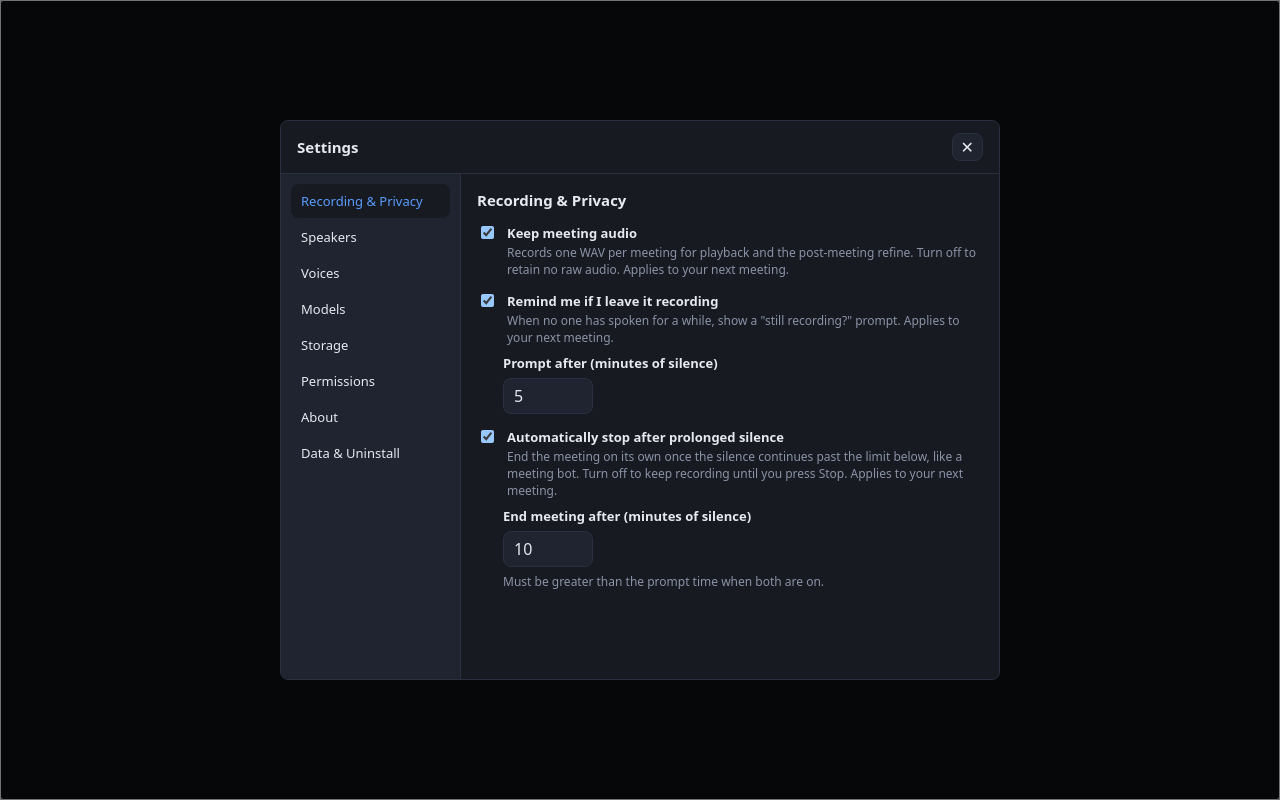
it: SettingsPage voices panel › surfaces a name collision from the rename
Click the button "Voices".
click(370, 273)  # box [291,256,450,290]
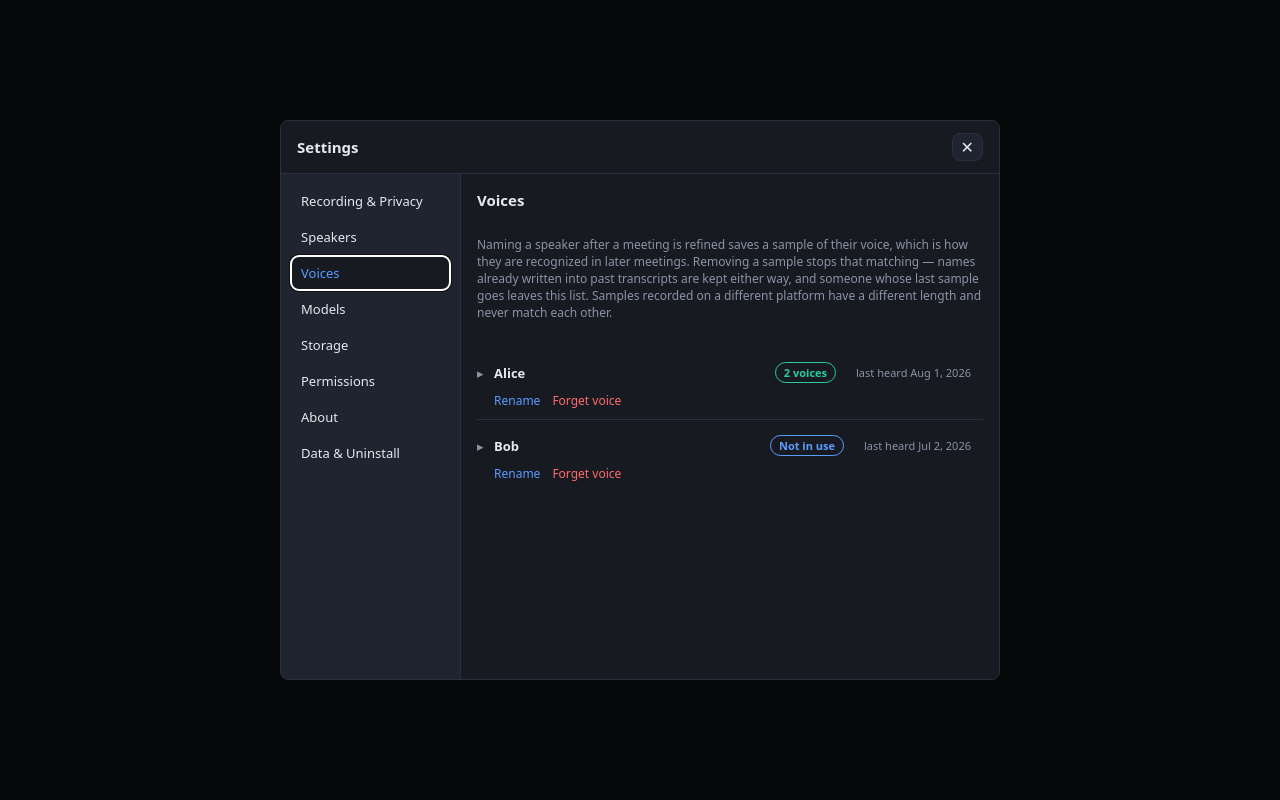
Click the button "Rename" below "2 voices".
click(517, 400)  # box [494,392,540,409]
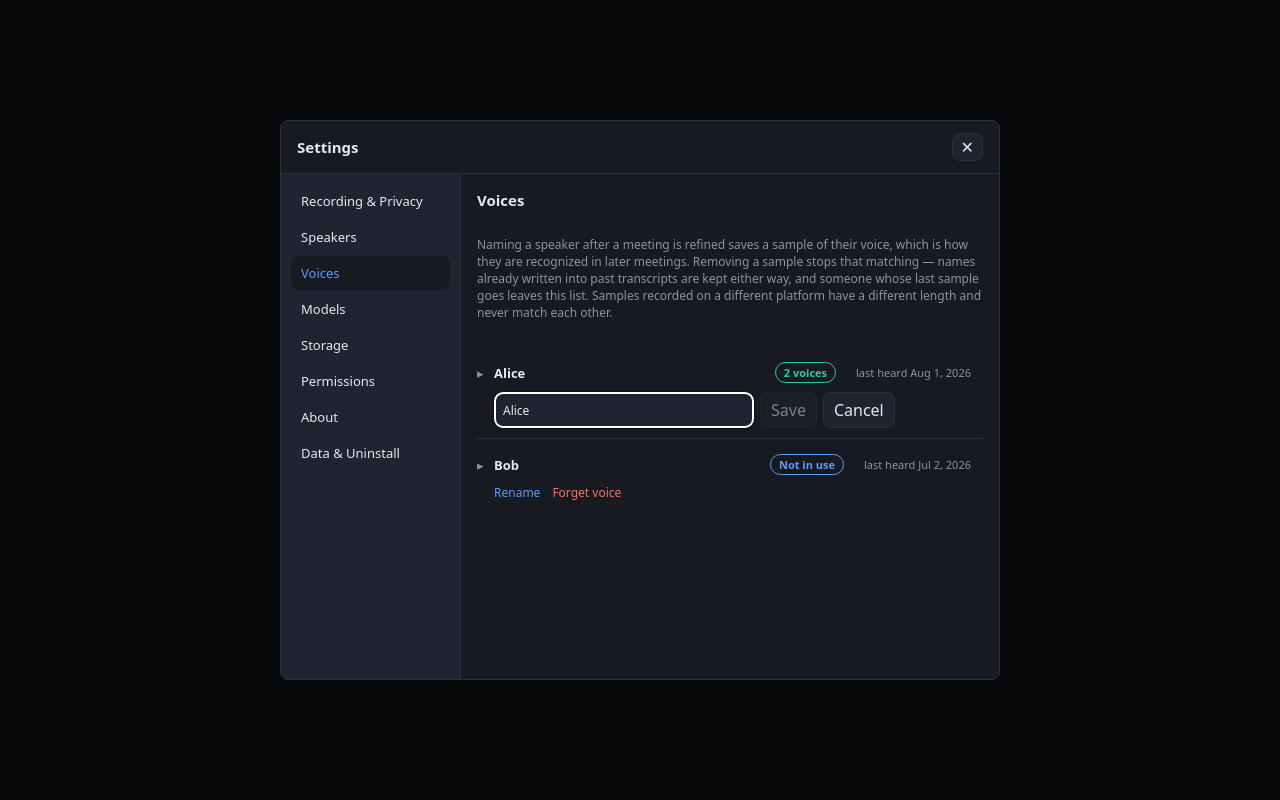
Replace the text in the field named "Rename Alice" with "Bob" at (624, 410), box [494,392,754,428]
Then press Enter
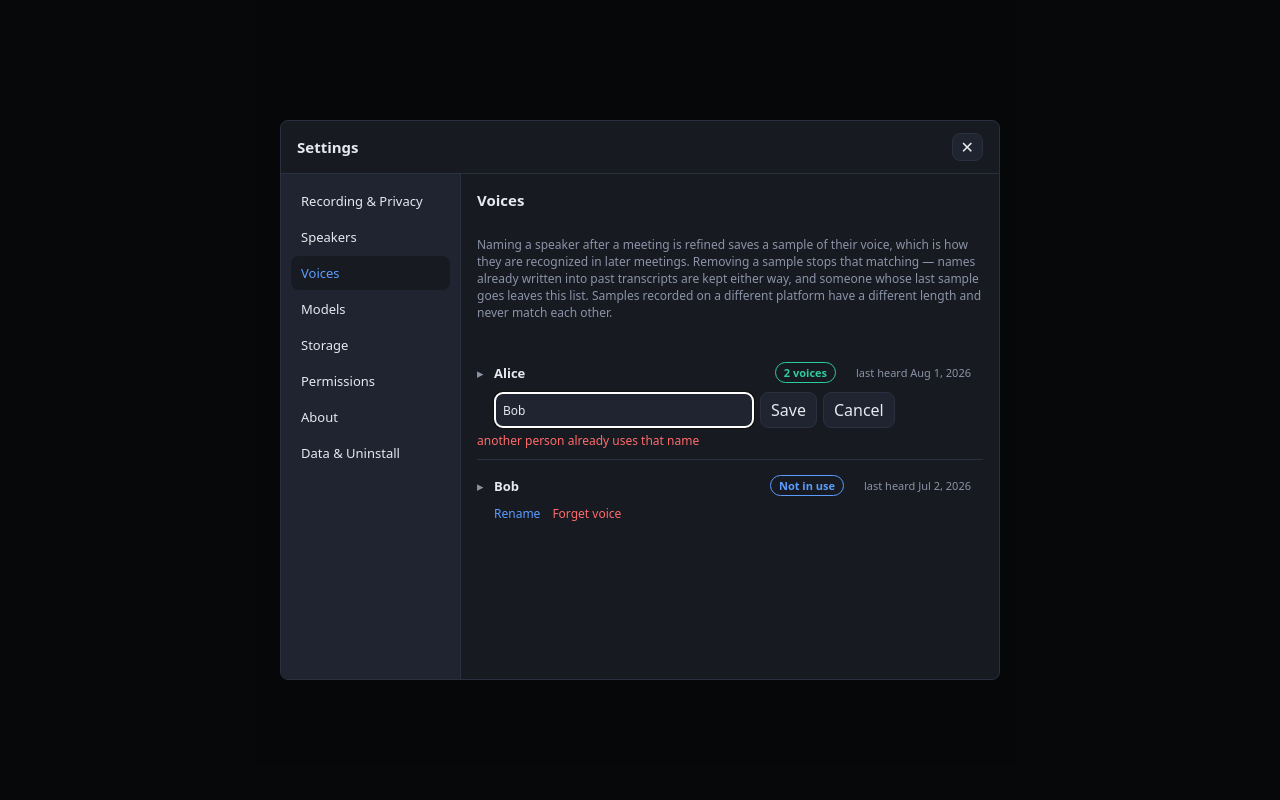
expect the text "another person already uses that name" is shown: met, box [477,432,699,449]
